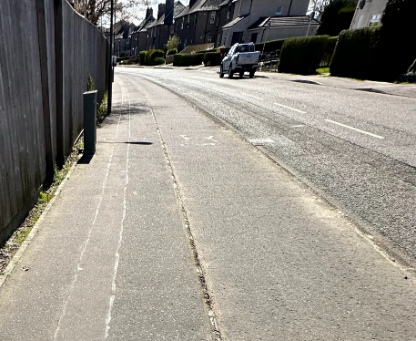car: (205, 41, 262, 83)
